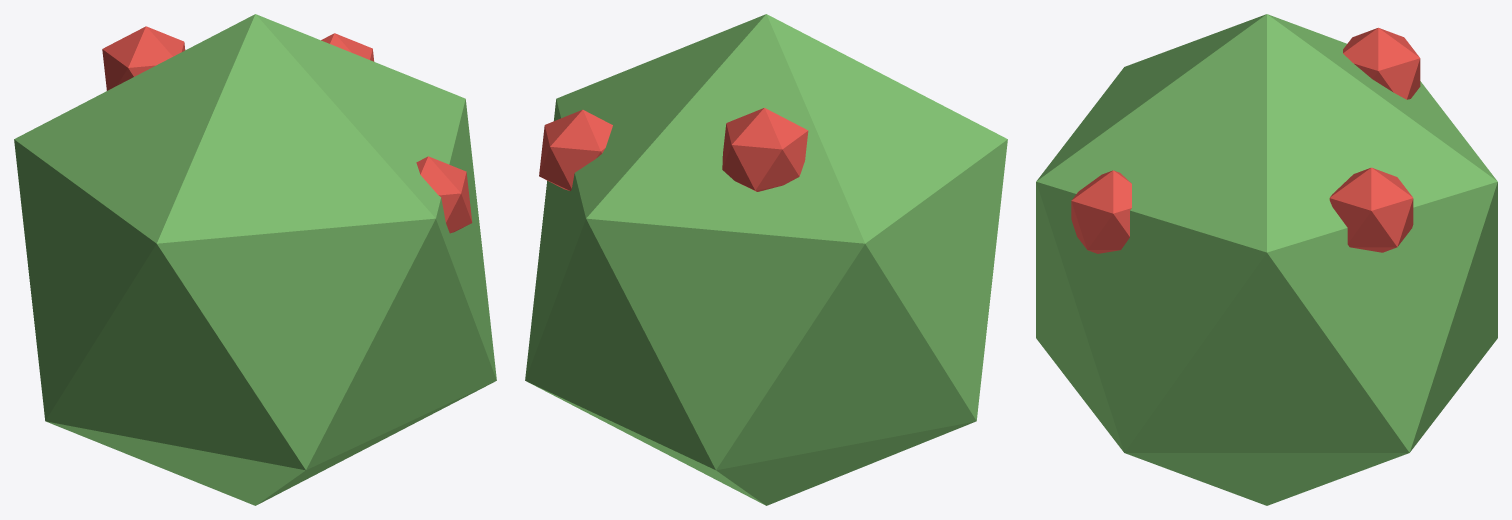
The model's file is tomato_bush.glb.
3 views of the same model, side by side, from view 1: azimuth 30°, elevation 25°; view 2: azimuth 150°, elevation 25°; view 3: azimuth 270°, elevation 25° (orthographic).
Parts seen in each view (by area): view 1: TomatoBush.003; view 2: TomatoBush.003; view 3: TomatoBush.003.
Part boxes in pixels (<box>): TomatoBush.003: <box>14,14,496,505</box>; TomatoBush.003: <box>525,14,1007,505</box>; TomatoBush.003: <box>1036,14,1497,505</box>.
Size of the model in its own units: 0.3935 by 0.44 by 0.3743.
